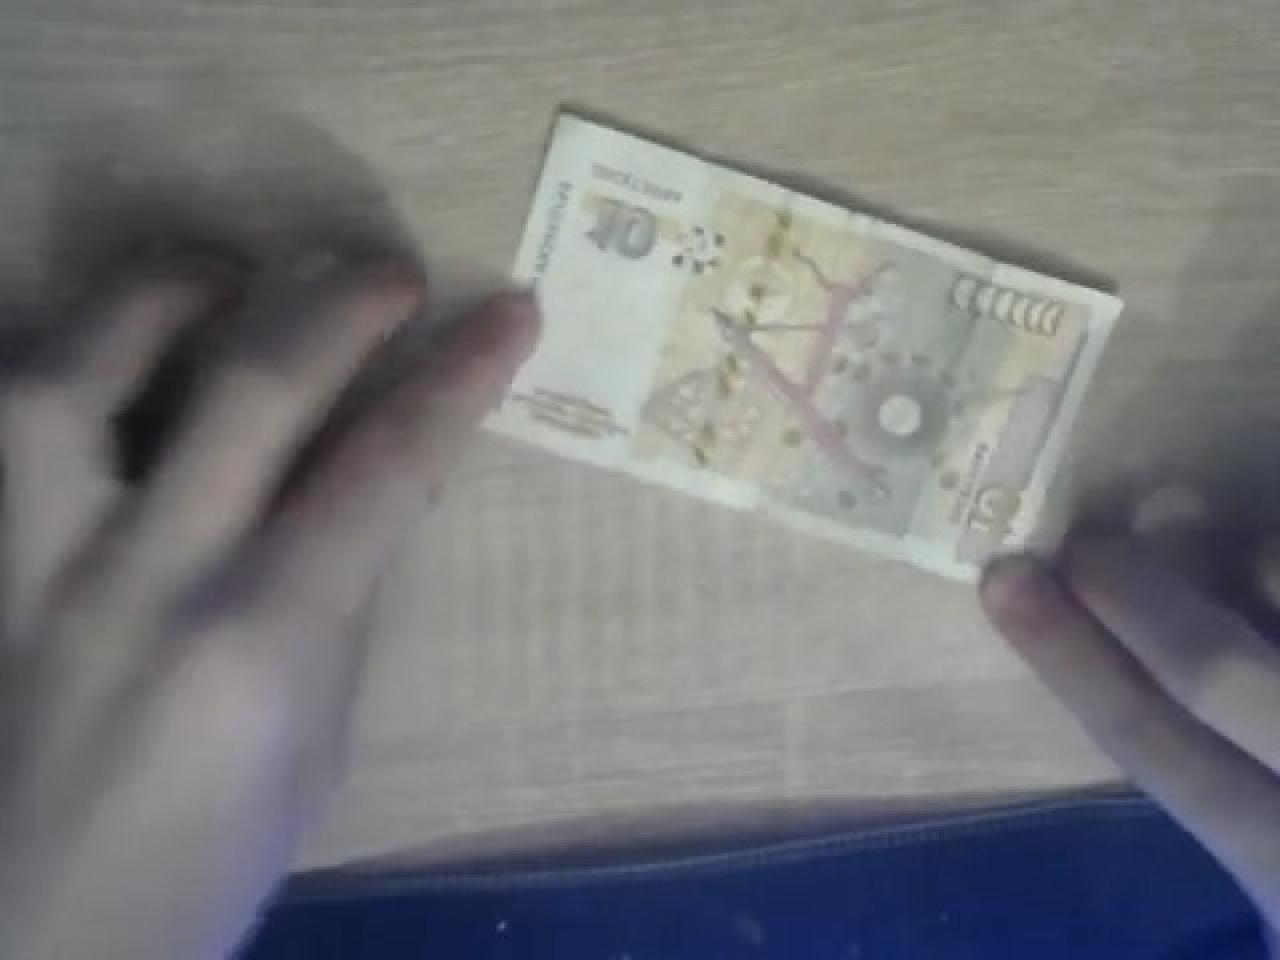10leva: (483, 107, 1128, 579)
